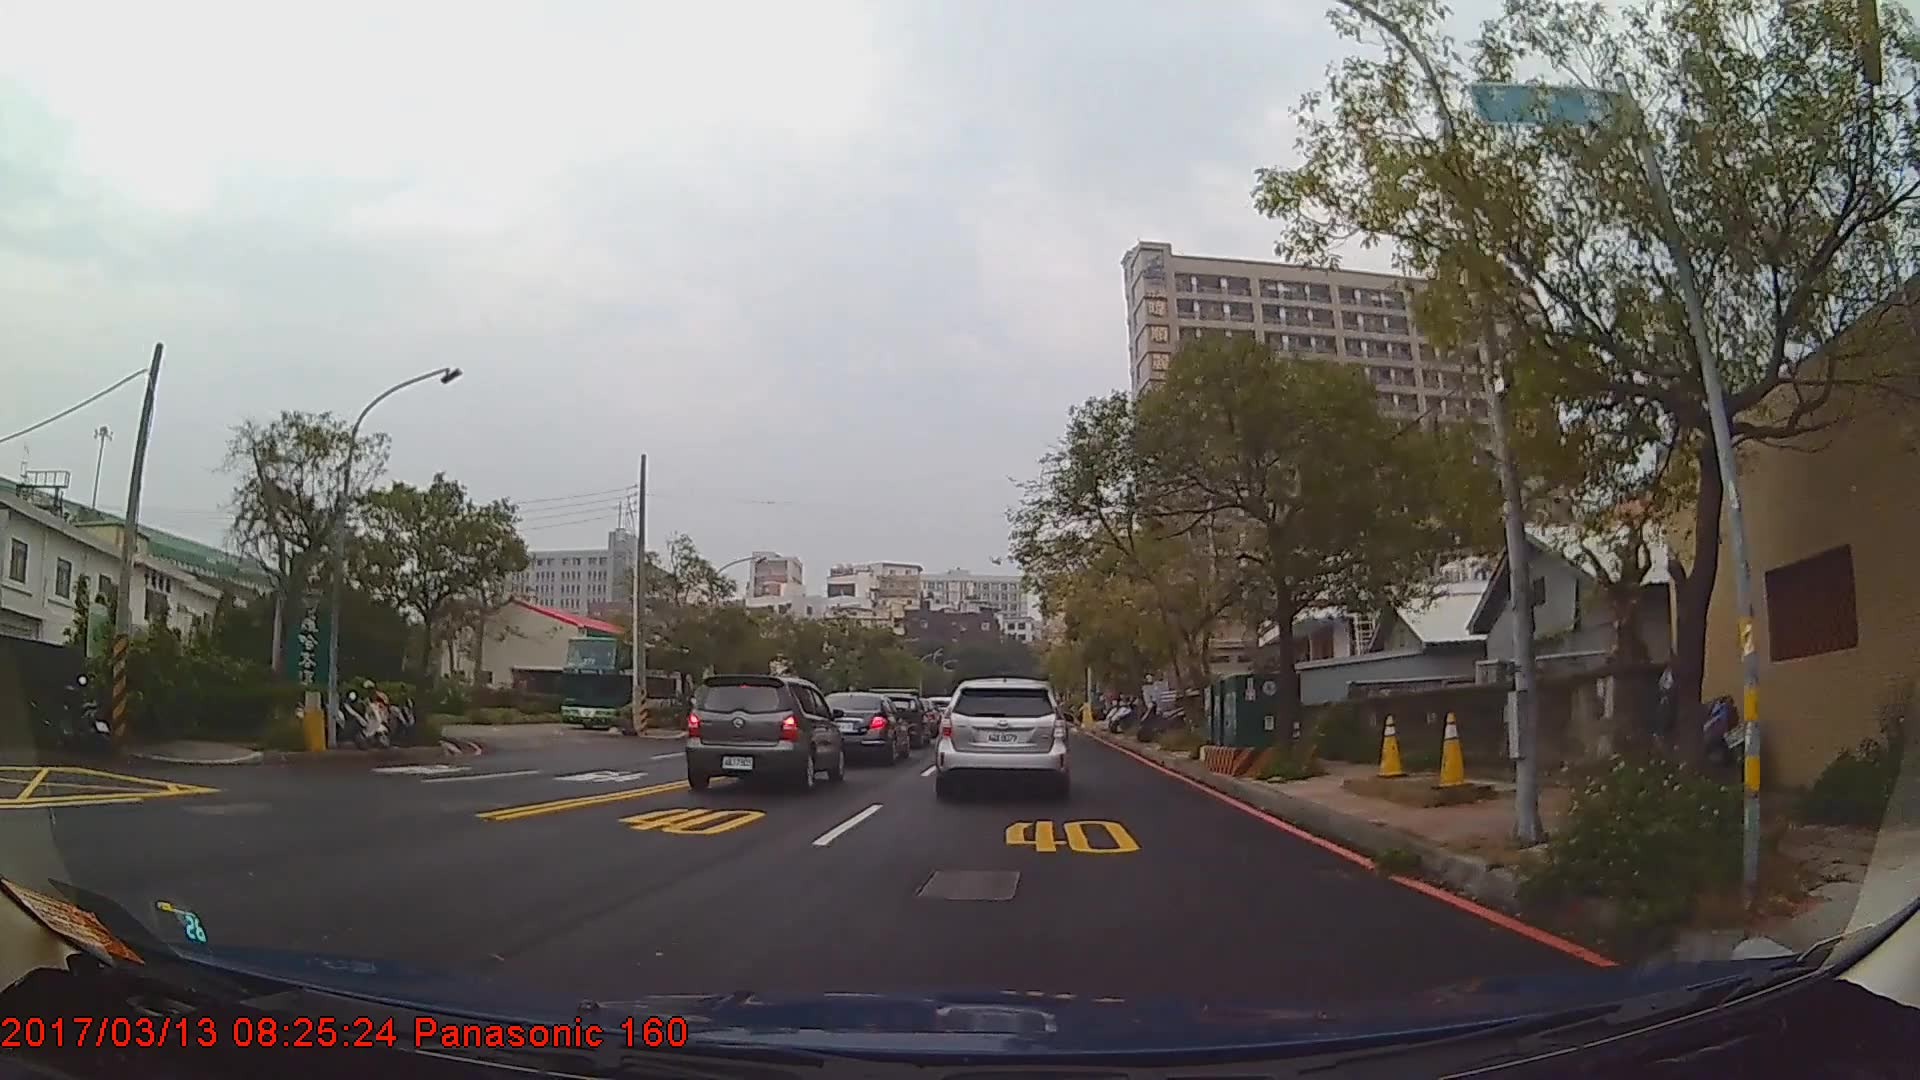vehicle: (683, 673, 843, 790), (935, 675, 1069, 795), (559, 633, 705, 733), (810, 690, 910, 764)
